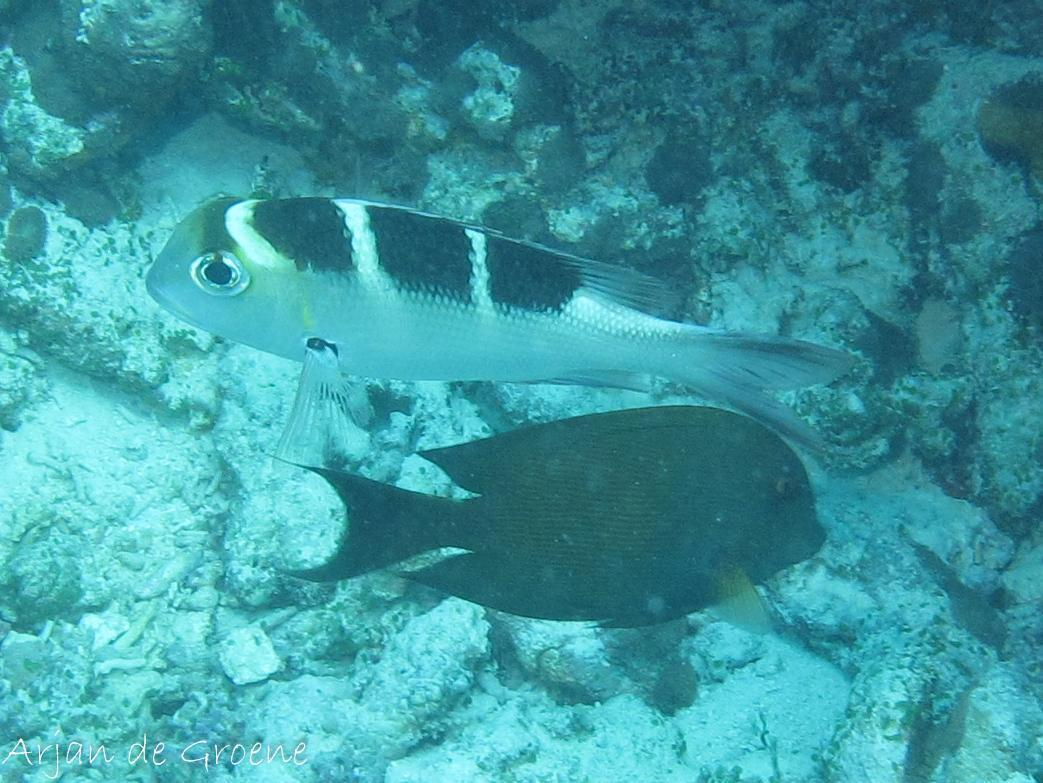Fish: (130, 170, 883, 486), (261, 380, 851, 636)
